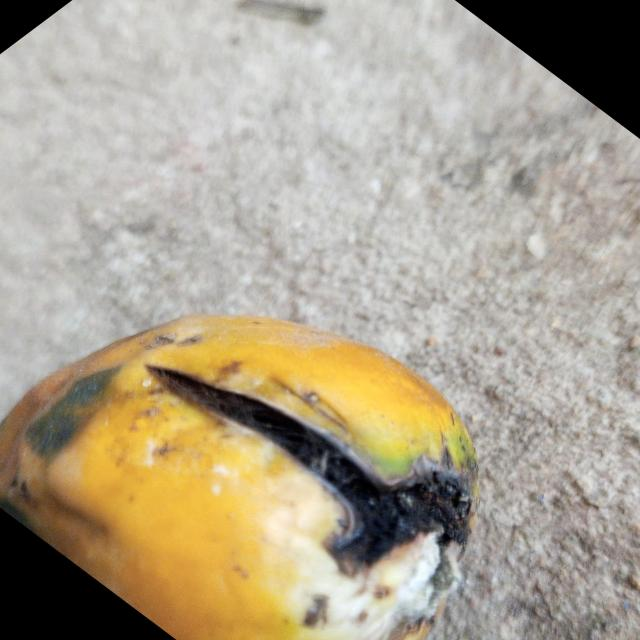damaged: (0, 315, 478, 640)
